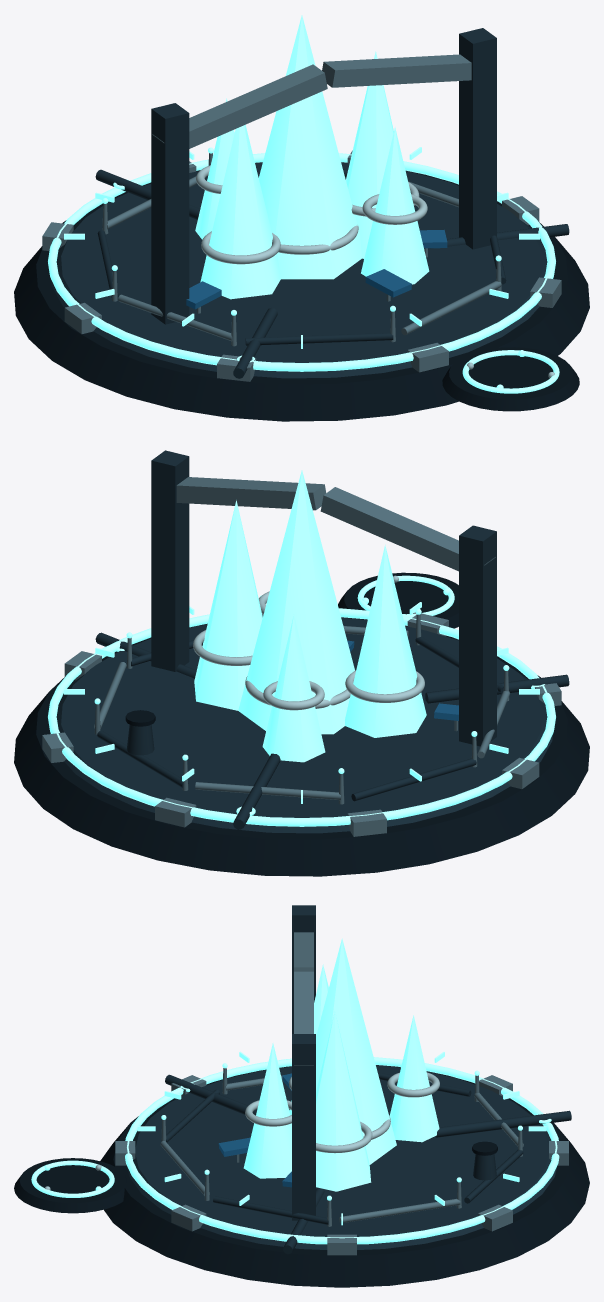
The model's file is crystalMine-stage1.glb.
3 renders of one model, top to bottom at view 1: azimuth 30°, elevation 25°; view 2: azimuth 150°, elevation 25°; view 3: azimuth 270°, elevation 25°, orthographic. The views are drawn at different scales.
Visible parts, largest first — view 1: upper-deck, armored-foundation, gantry-tower (×2), crystal-spire-0, gantry-arm (×2), crystal-spire-1, perimeter-light, landing-pad, crystal-spire-4, crystal-spire-2, crystal-spire-3, landing-guidance-light (+17 smaller); view 2: upper-deck, armored-foundation, gantry-tower (×2), crystal-spire-0, crystal-spire-1, gantry-arm (×2), crystal-spire-2, perimeter-light, crystal-spire-3, landing-pad, service-catwalk-5, service-catwalk-4 (+14 smaller); view 3: upper-deck, armored-foundation, crystal-spire-0, perimeter-light, crystal-spire-2, gantry-tower (×2), landing-pad, crystal-spire-4, crystal-spire-3, gantry-arm (×2), utility-conduit-2, landing-guidance-light (+11 smaller).
Boxes of the visible parts, box(x1,y1,x2,y2) form: upper-deck: box(51, 162, 553, 378); armored-foundation: box(14, 162, 589, 421); gantry-tower (×2): box(151, 28, 496, 324); crystal-spire-0: box(258, 15, 361, 279); gantry-arm (×2): box(152, 54, 471, 148); crystal-spire-1: box(200, 124, 280, 299); perimeter-light: box(48, 153, 555, 371); landing-pad: box(442, 347, 579, 411); crystal-spire-4: box(361, 127, 429, 284); crystal-spire-2: box(346, 51, 393, 258); crystal-spire-3: box(195, 98, 234, 239); landing-guidance-light: box(462, 350, 559, 393); upper-deck: box(50, 617, 552, 833); armored-foundation: box(14, 617, 589, 876); gantry-tower (×2): box(151, 450, 496, 746); crystal-spire-0: box(238, 470, 354, 734); crystal-spire-1: box(345, 544, 426, 737); gantry-arm (×2): box(176, 477, 495, 571); crystal-spire-2: box(194, 500, 262, 710); perimeter-light: box(48, 608, 555, 826); crystal-spire-3: box(262, 614, 325, 762); landing-pad: box(338, 572, 458, 628); service-catwalk-5: box(195, 782, 340, 800); service-catwalk-4: box(351, 758, 476, 801); upper-deck: box(127, 1065, 557, 1249); armored-foundation: box(100, 1065, 589, 1287); crystal-spire-0: box(316, 938, 396, 1164); perimeter-light: box(125, 1057, 559, 1244); crystal-spire-2: box(316, 1011, 371, 1191); gantry-tower (×2): box(292, 905, 315, 1220); landing-pad: box(14, 1158, 126, 1213); crystal-spire-4: box(243, 1043, 291, 1178); crystal-spire-3: box(389, 1015, 439, 1142); gantry-arm (×2): box(294, 932, 313, 1065); utility-conduit-2: box(435, 1110, 571, 1137); landing-guidance-light: box(31, 1160, 114, 1197).
Size of the model in its own units: 8.53 by 4.65 by 9.91.
